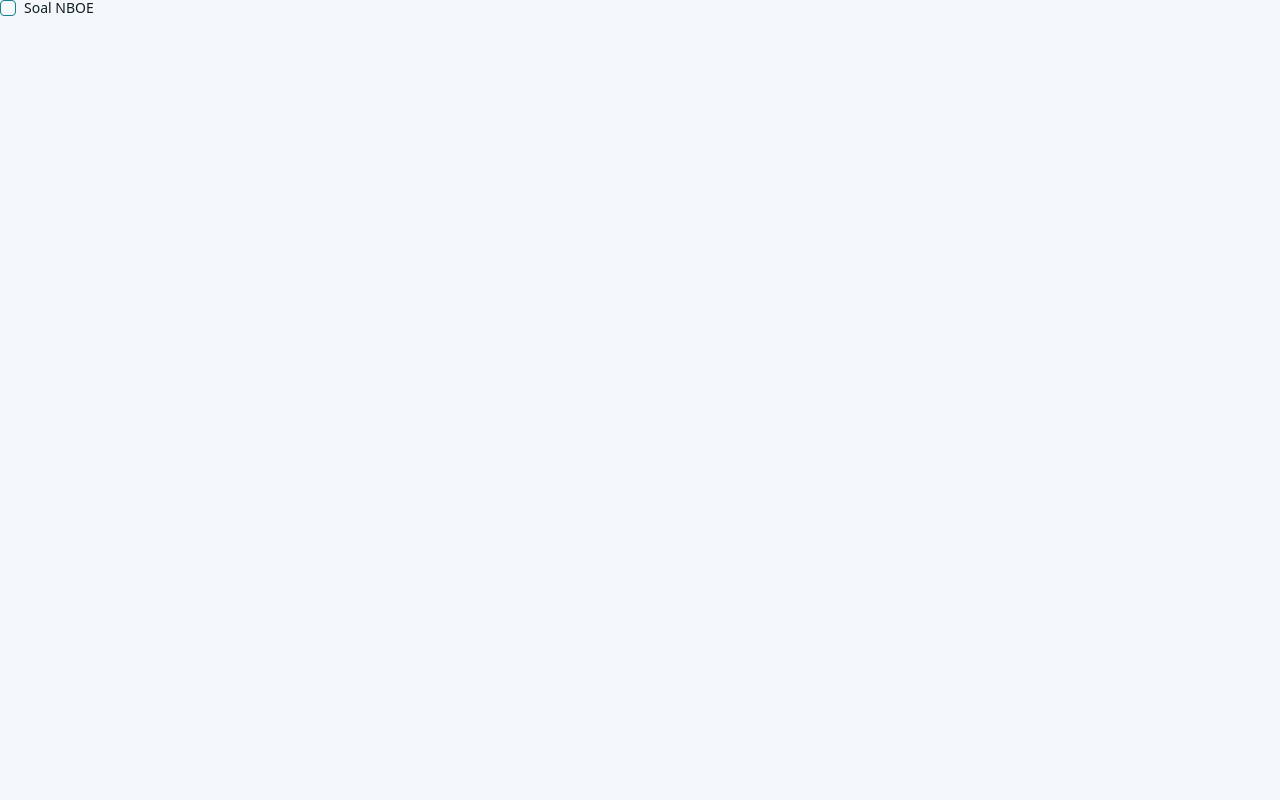
Scenario: NBOE case marker › saves and removes only the NBOE flag and reads the persisted marker after reopening
Later steps or results of the test are not shown.
Click the checkbox at (8, 8), box [0,0,16,16]
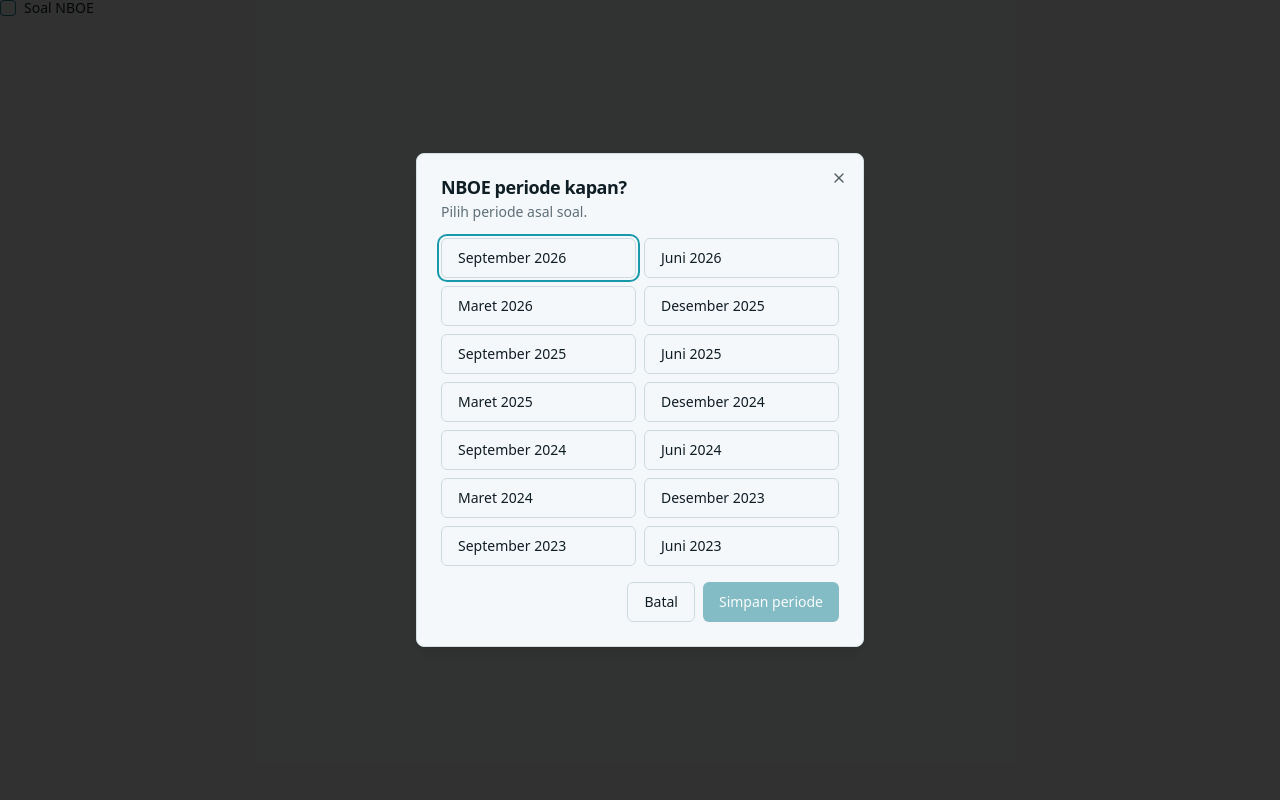
Click the button "September 2026" at (538, 258), box [441,238,636,278]
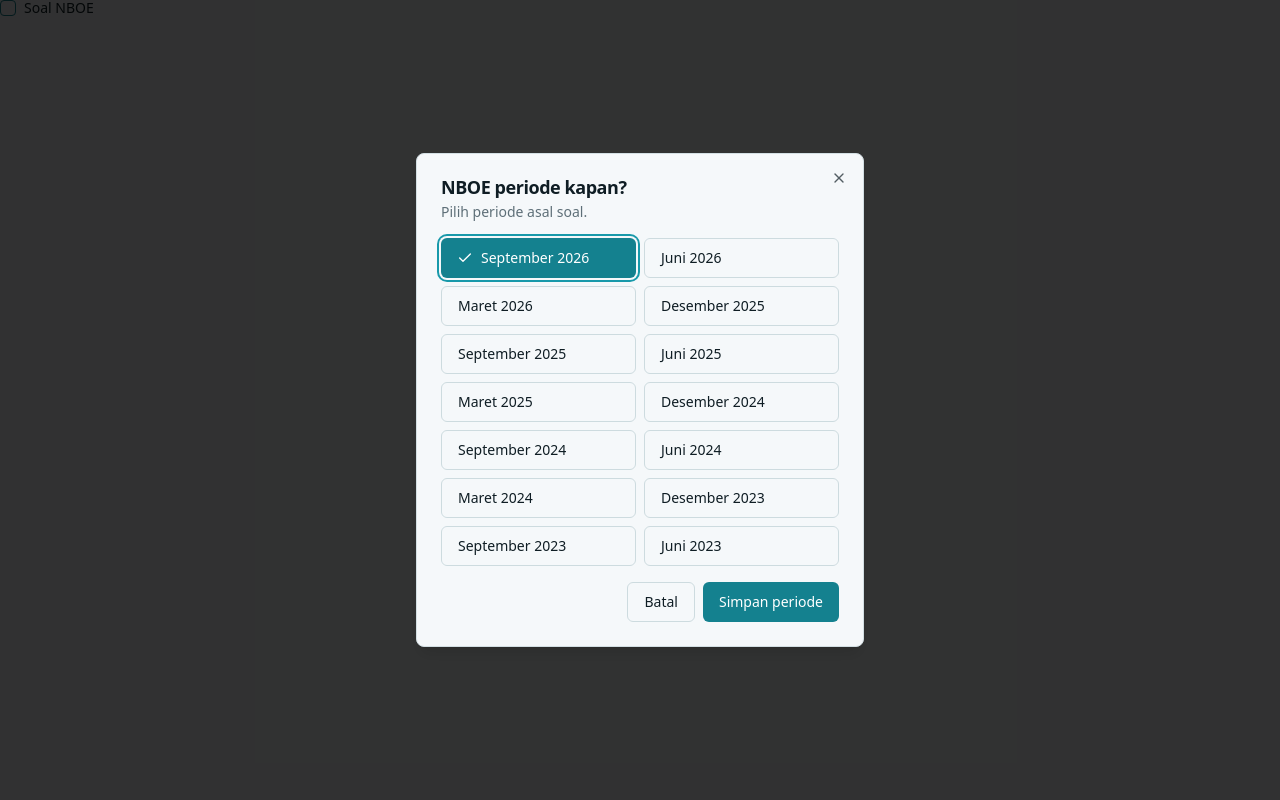
Click the button "Simpan periode" at (771, 602), box [703,582,839,622]
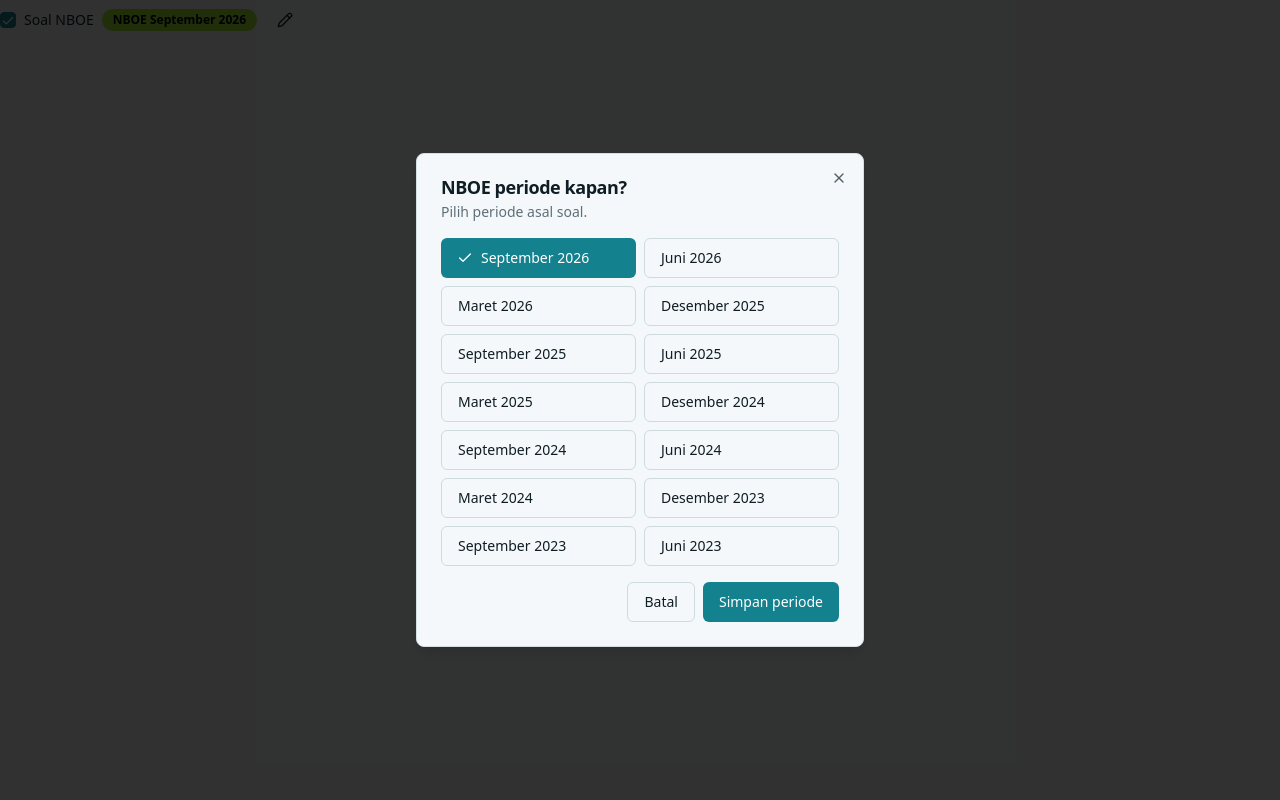
expect the checkbox is checked: met, box [0,12,16,28]
